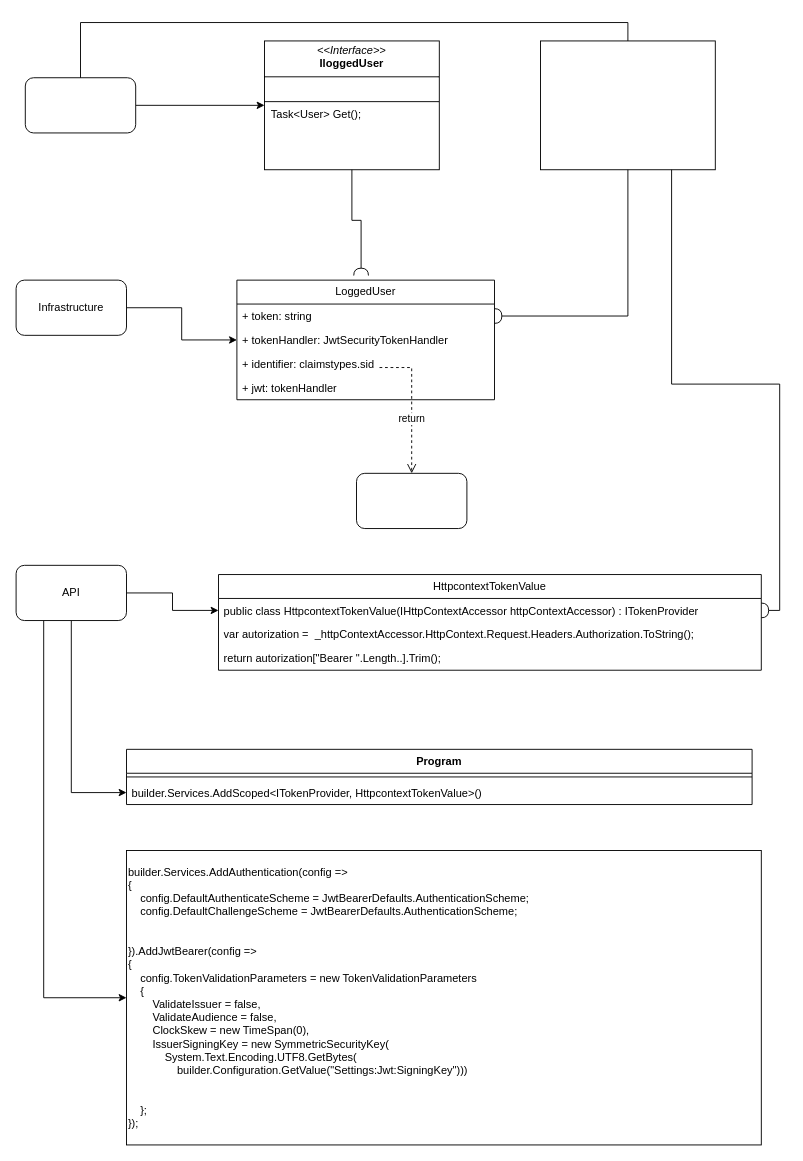
This 803x1161 diagram has some shape labels left out. Each missing label, with the centre of its shape:
"<<Interface>> ITokenProvider TokenOnRequest() : string" belongs at point 627,105.
"Domain" belongs at point 80,105.
"User" belongs at point 411,500.
